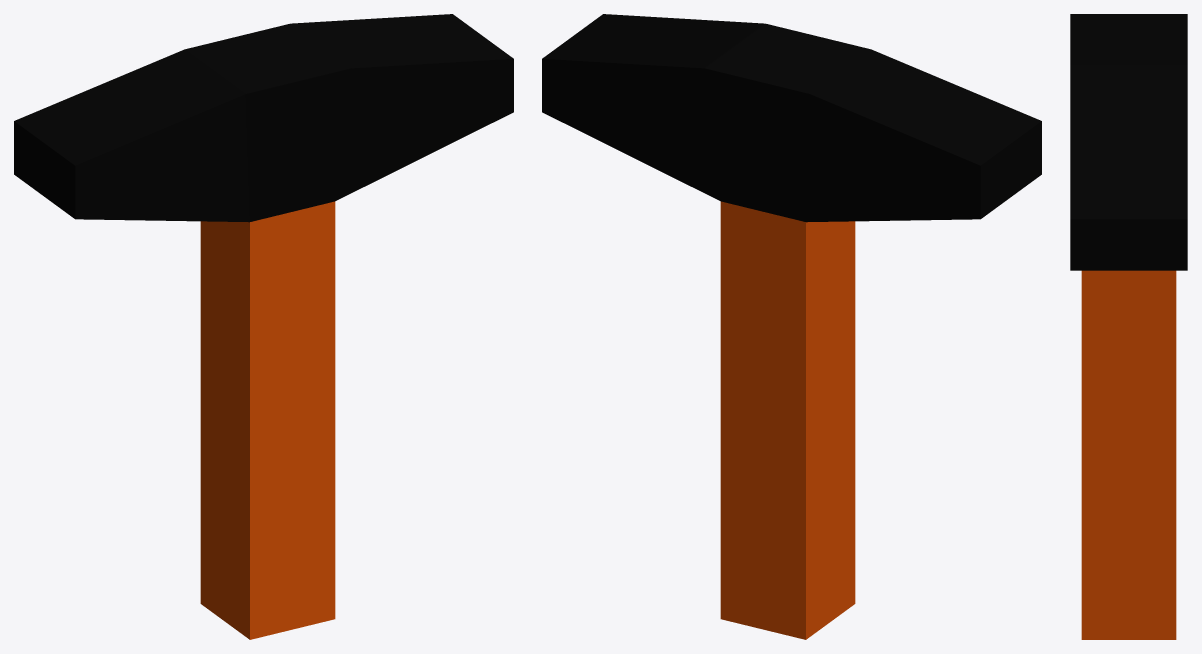
Rendered from hamer.fbx.
3 renders of one model, left to right at view 1: azimuth 30°, elevation 25°; view 2: azimuth 150°, elevation 25°; view 3: azimuth 270°, elevation 25°, orthographic. The views are drawn at different scales.
Parts seen in each view (by area): view 1: Cube; view 2: Cube; view 3: Cube.
Boxes of the visible parts, <box> form: Cube: <box>14,14,513,639</box>; Cube: <box>542,14,1041,639</box>; Cube: <box>1070,14,1187,639</box>.
Size of the model in its own units: 829 by 998 by 200.
